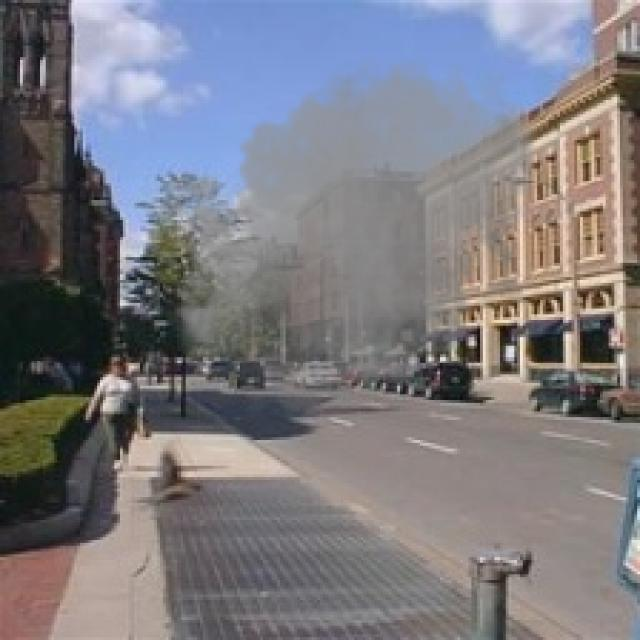smoke: (163, 49, 543, 437)
